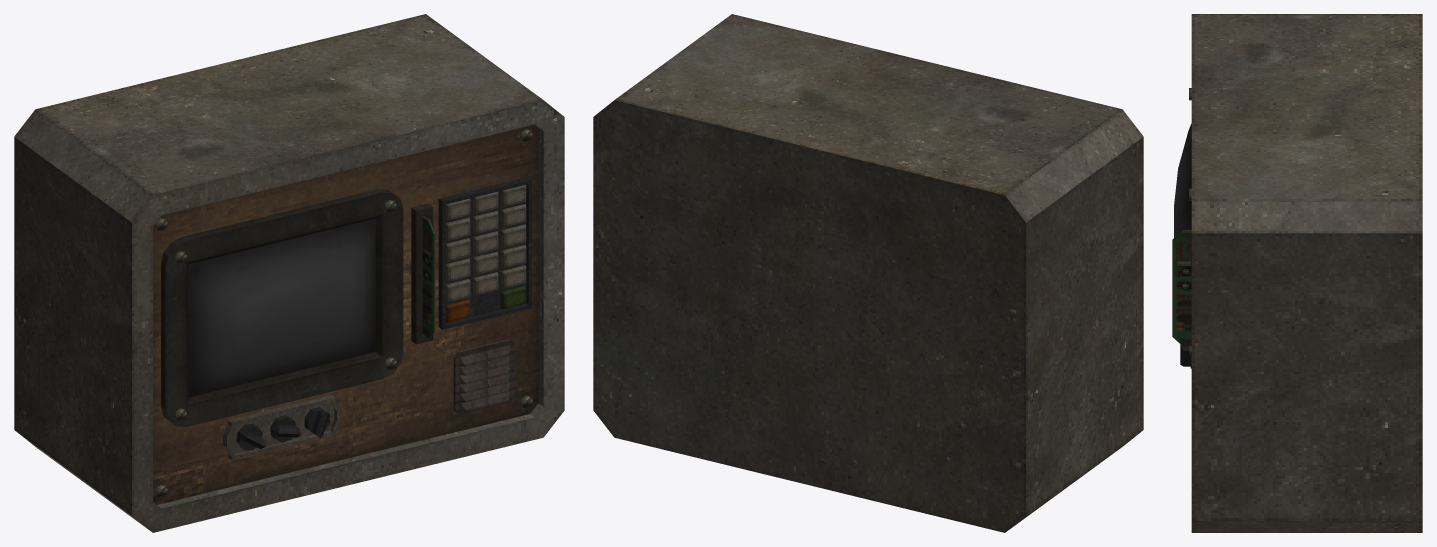
Rendered from computer_terminal_etx_1.glb.
The picture shows the model from 3 angles, left to right: view 1: azimuth 30°, elevation 25°; view 2: azimuth 150°, elevation 25°; view 3: azimuth 270°, elevation 25°; orthographic projection.
Visible parts, largest first — view 1: computer_terminal_etx_1, computer_terminal_etx_1_round_screen, circuit_board_etx_1_child; view 2: computer_terminal_etx_1; view 3: computer_terminal_etx_1, circuit_board_etx_1_child, computer_terminal_etx_1_round_screen.
Boxes of the visible parts, x1,y1,x2,y2 form: computer_terminal_etx_1: (14, 14, 564, 532); computer_terminal_etx_1_round_screen: (188, 218, 375, 397); circuit_board_etx_1_child: (422, 216, 435, 337); computer_terminal_etx_1: (593, 14, 1143, 532); computer_terminal_etx_1: (1180, 14, 1422, 532); circuit_board_etx_1_child: (1172, 230, 1191, 346); computer_terminal_etx_1_round_screen: (1174, 123, 1191, 237).
Bounding box in the file's own units: 0.918 × 0.684 × 0.468.
2 materials, 2 textured.
